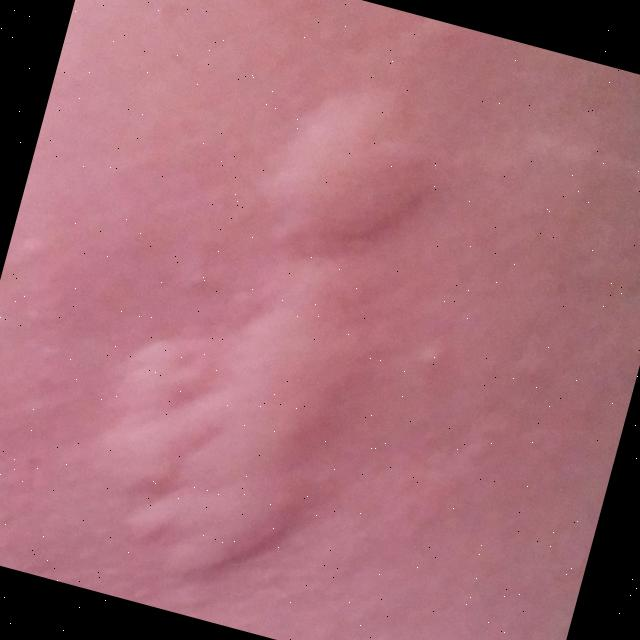sinek: (44, 1, 514, 640)
